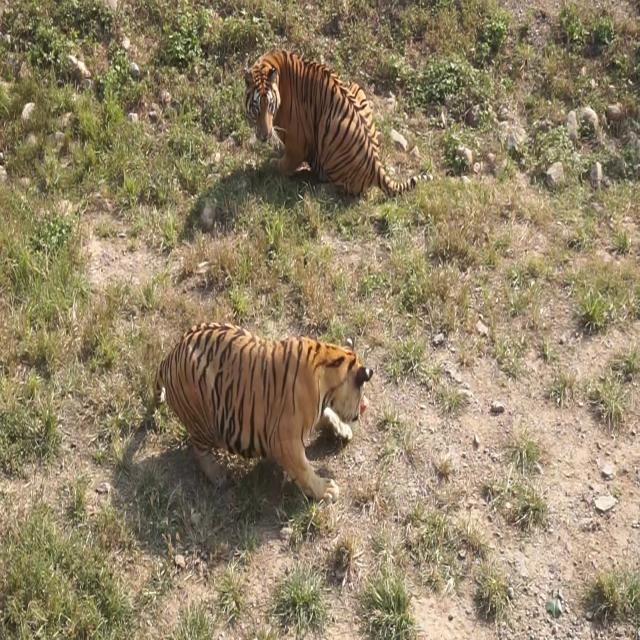Tiger: (129, 288, 400, 556), (242, 49, 432, 197)
